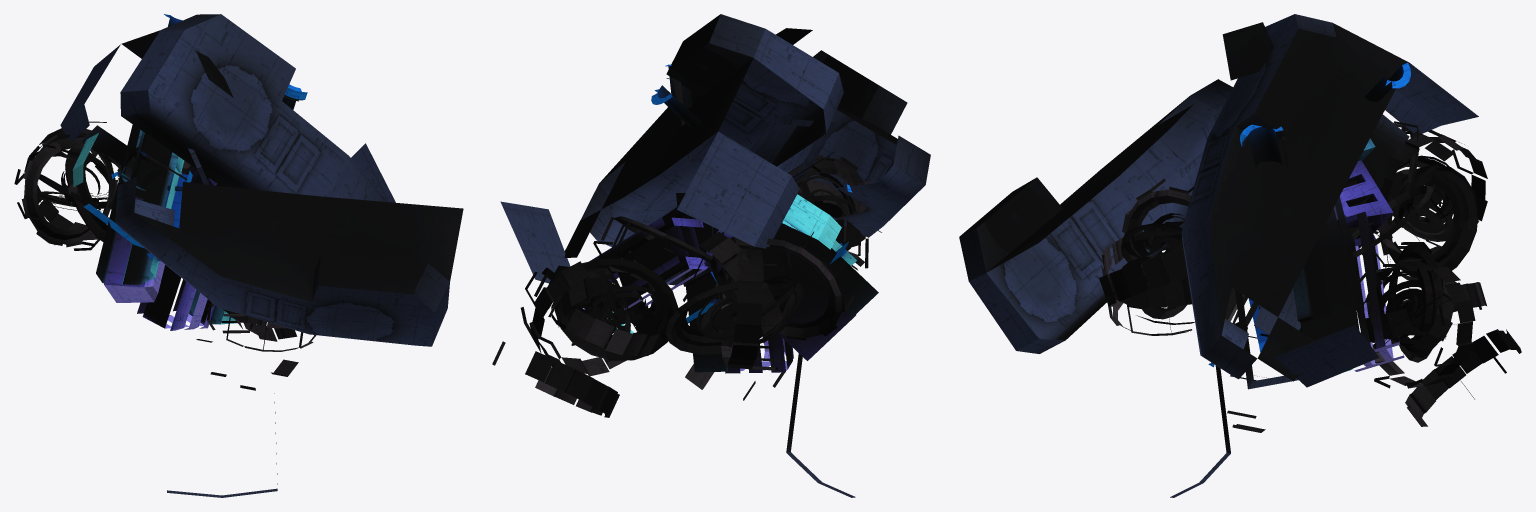
The model's file is PlayerA_Die10.obj.
The picture shows the model from 3 angles, left to right: view 1: azimuth 30°, elevation 25°; view 2: azimuth 150°, elevation 25°; view 3: azimuth 270°, elevation 25°; orthographic projection. The views are drawn at different scales.
Parts seen in each view (by area): view 1: Object001; view 2: Object001; view 3: Object001.
Boxes of the visible parts, bbox=[...] form: Object001: bbox=[14, 14, 463, 497]; Object001: bbox=[492, 14, 930, 497]; Object001: bbox=[959, 14, 1521, 497].
Bounding box in the file's own units: 129 × 166 × 178.
Materials: 1 (1 with a texture image).
